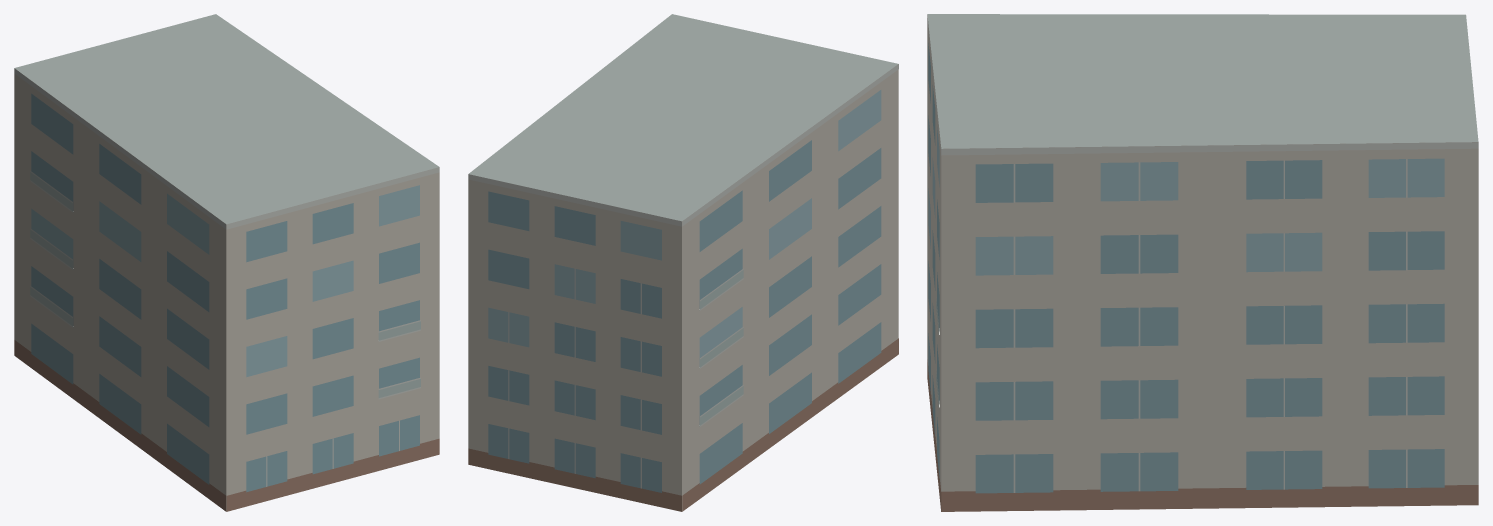
Rendered from survey-upis-32611812.glb.
The picture shows the model from 3 angles, left to right: view 1: azimuth 30°, elevation 25°; view 2: azimuth 150°, elevation 25°; view 3: azimuth 270°, elevation 25°; orthographic projection. The views are drawn at different scales.
Visible parts, largest first — view 1: survey-upis-32611812.tmp; view 2: survey-upis-32611812.tmp; view 3: survey-upis-32611812.tmp.
Boxes of the visible parts, x1=… form: survey-upis-32611812.tmp: x1=14, y1=14, x2=439, y2=511; survey-upis-32611812.tmp: x1=468, y1=14, x2=898, y2=511; survey-upis-32611812.tmp: x1=927, y1=14, x2=1478, y2=511.
Bounding box in the file's own units: 10.56 × 13.25 × 18.24.
